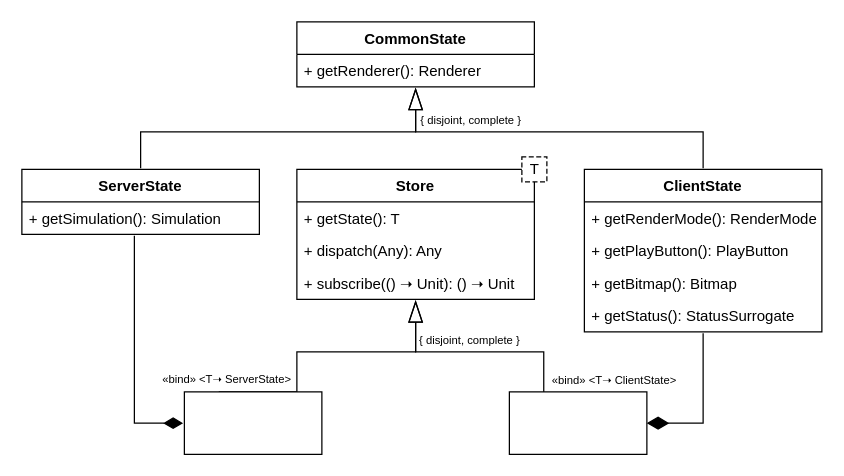
This 844x476 diagram has some shape labels left out. The shapes that lost their labels are listed below. From the top down, each one's centre as x and y in pixels, then its label:
At point 252,422: "ServerStore".
At point 577,422: "ClientStore".
